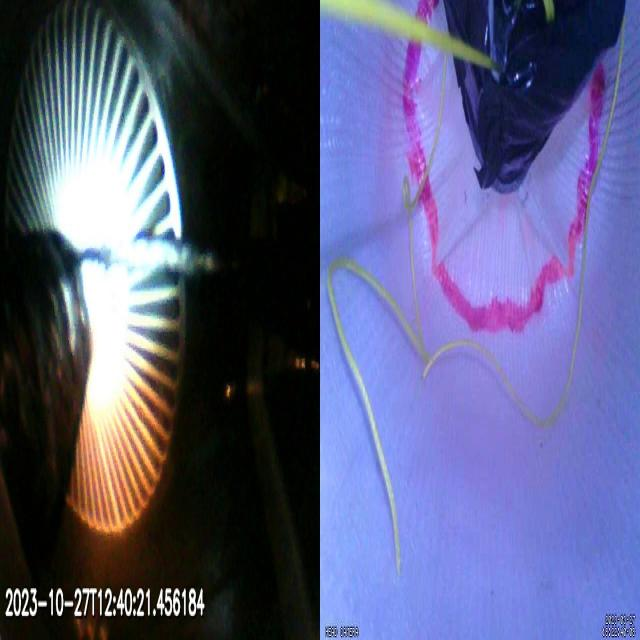red-circle: (402, 0, 604, 336)
